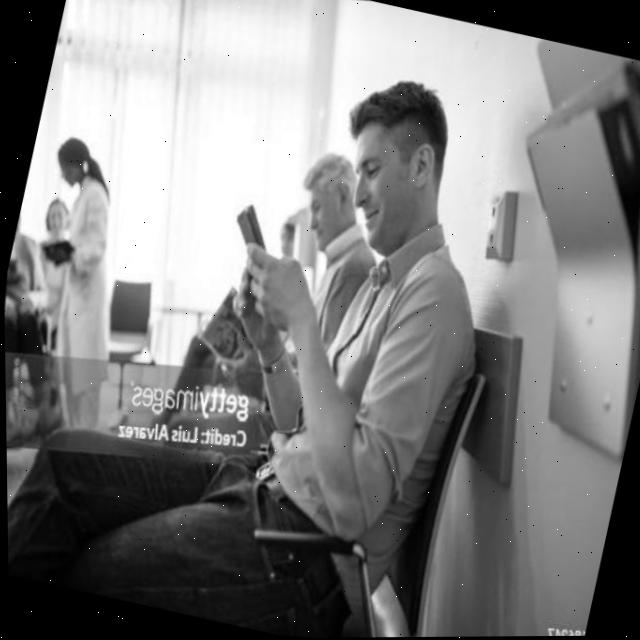phone: (226, 198, 277, 258)
